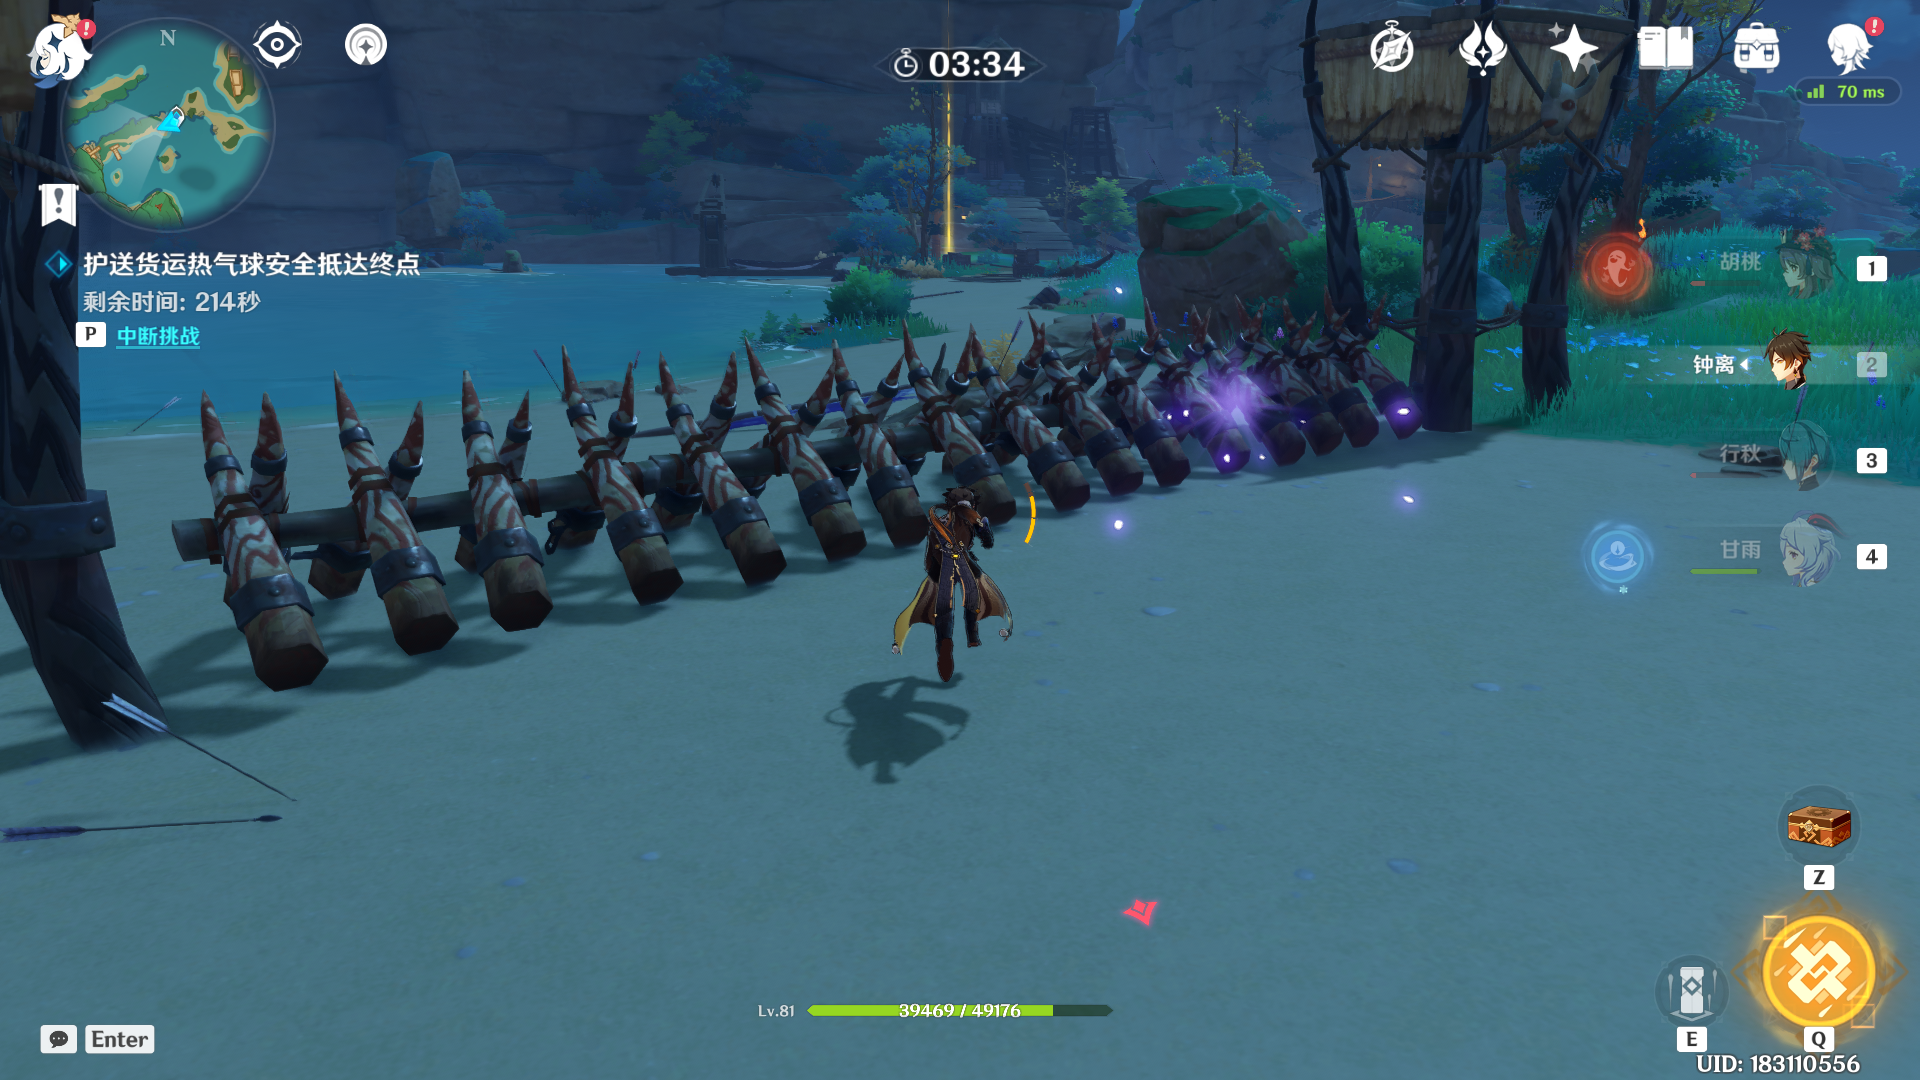character: (807, 434, 1051, 752)
